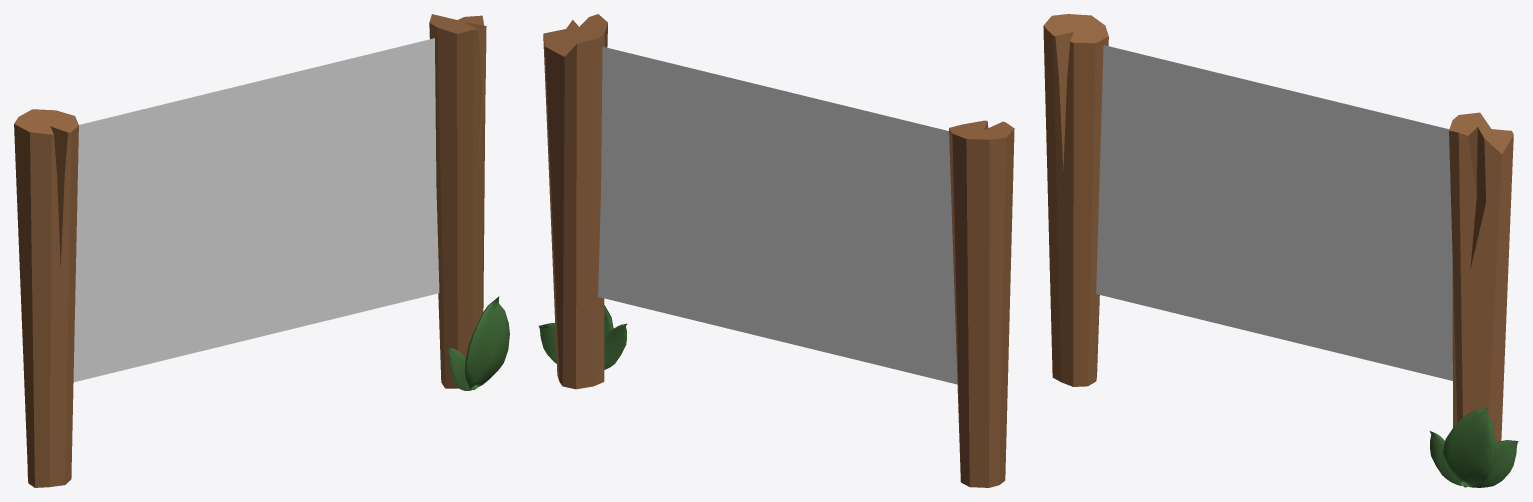
The model's file is wood.fbx.
The picture shows the model from 3 angles, left to right: view 1: azimuth 30°, elevation 25°; view 2: azimuth 150°, elevation 25°; view 3: azimuth 330°, elevation 25°; orthographic projection. The views are drawn at different scales.
Visible parts, largest first — view 1: Cylinder; view 2: Cylinder; view 3: Cylinder.
Part boxes in pixels (box(x1,y1,x2,y2)): Cylinder: box(14, 14, 509, 487); Cylinder: box(538, 14, 1014, 487); Cylinder: box(1043, 14, 1518, 487).
Bounding box in the file's own units: 307 × 221 × 42.28.
